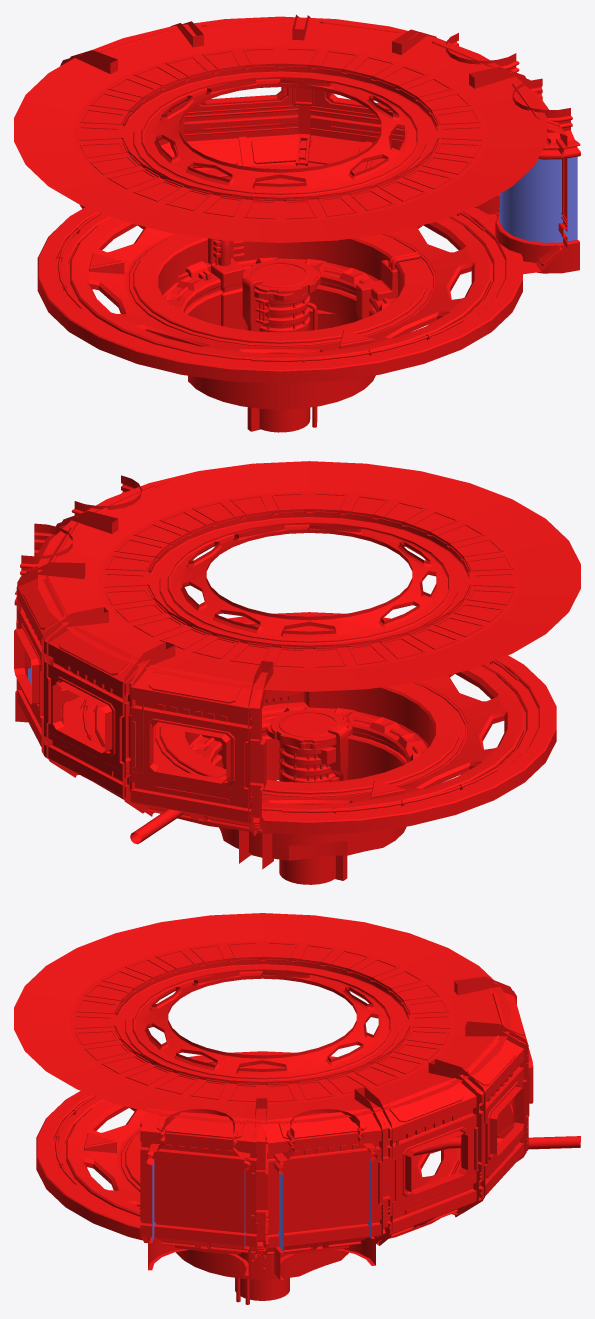
The model's file is room_1_all.fbx.
3 renders of one model, top to bottom at view 1: azimuth 30°, elevation 25°; view 2: azimuth 150°, elevation 25°; view 3: azimuth 270°, elevation 25°, orthographic. The views are drawn at different scales.
Visible parts, largest first — view 1: room_1, platform_1, glass_1; view 2: room_1, platform_1; view 3: room_1, platform_1, glass_1.
Part boxes in pixels (x1,y1,x2,y2): room_1: (14,14,580,409); platform_1: (242,259,320,432); glass_1: (500,156,577,242); room_1: (14,461,580,869); platform_1: (266,708,352,884); room_1: (14,913,580,1280); platform_1: (235,1139,289,1304); glass_1: (152,1159,371,1251).
Bounding box in the file's own units: 1881 × 1096 × 2008.
